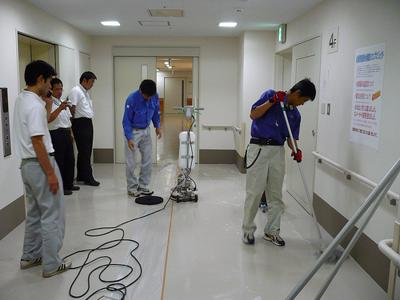person: (242, 79, 317, 248)
